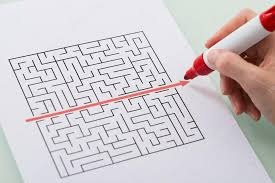maze: (38, 52, 173, 156)
